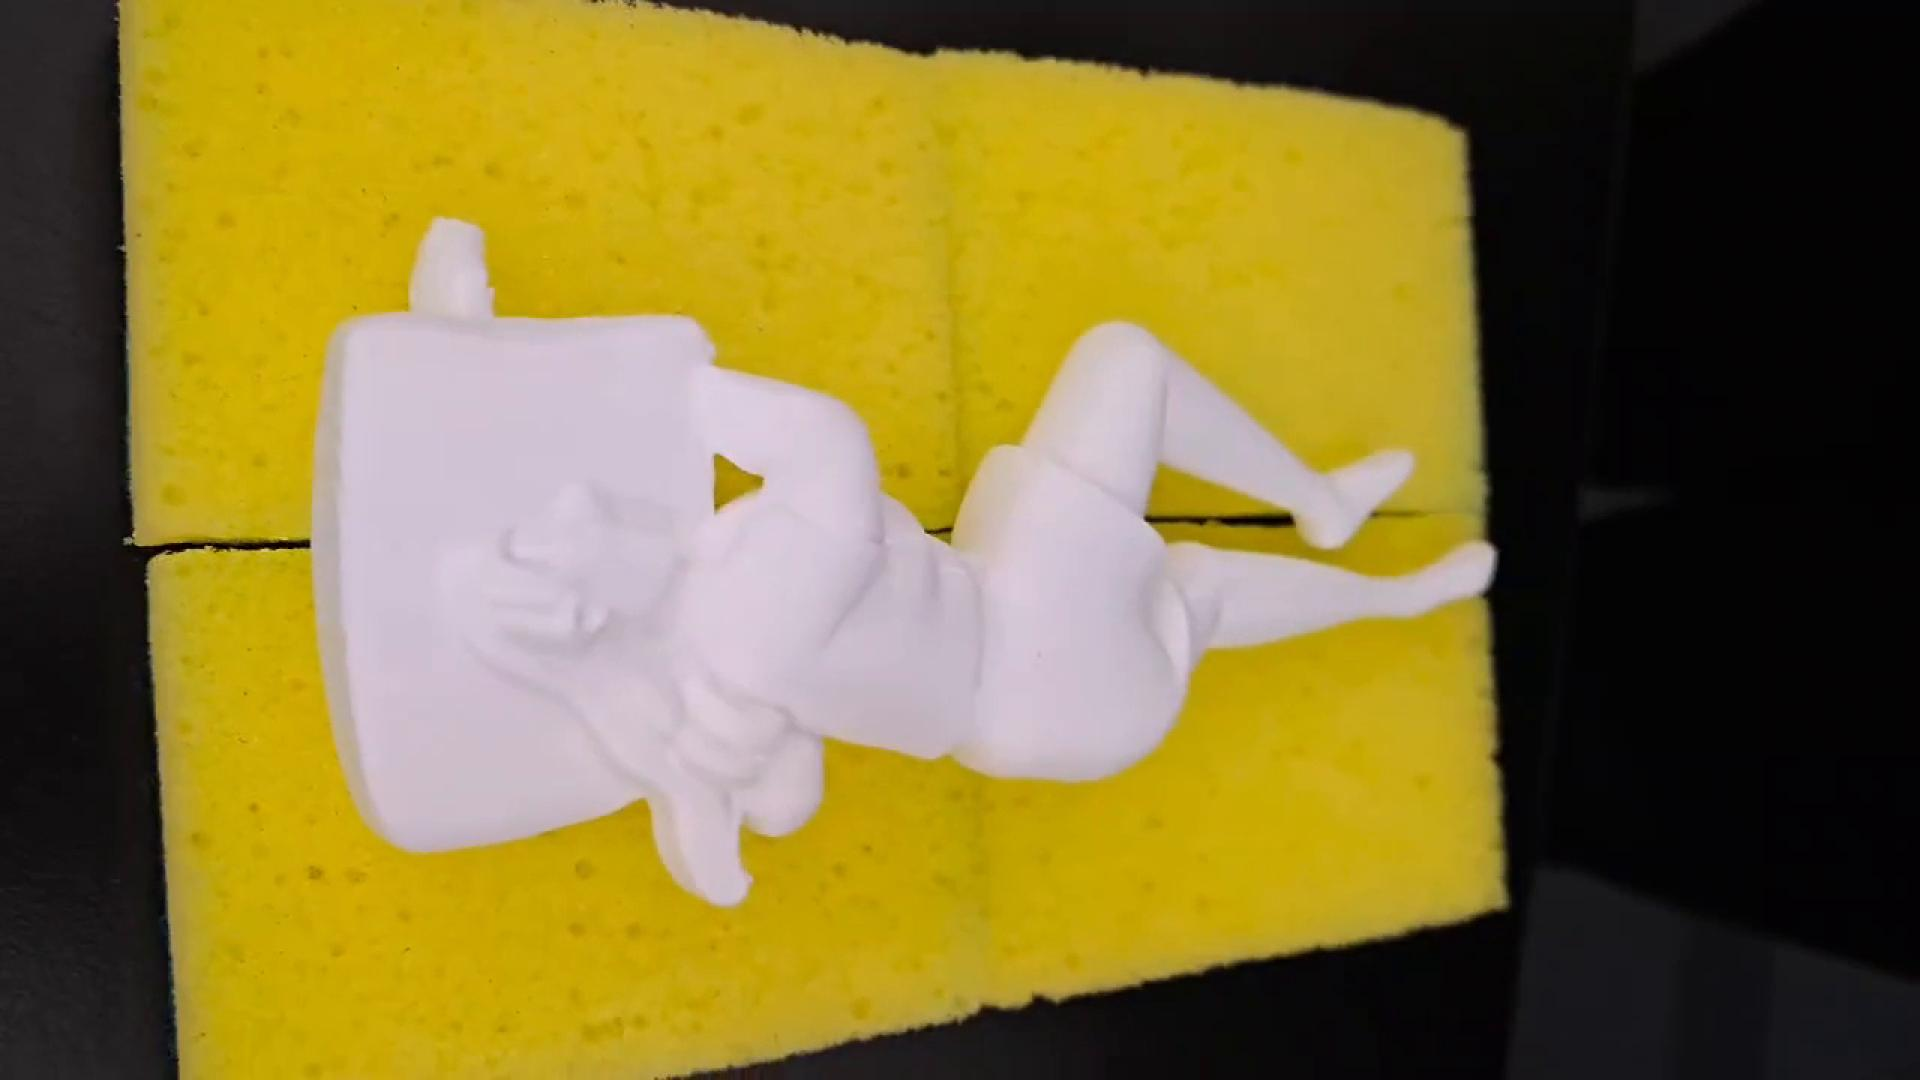Good-style: (243, 202, 1569, 919)
